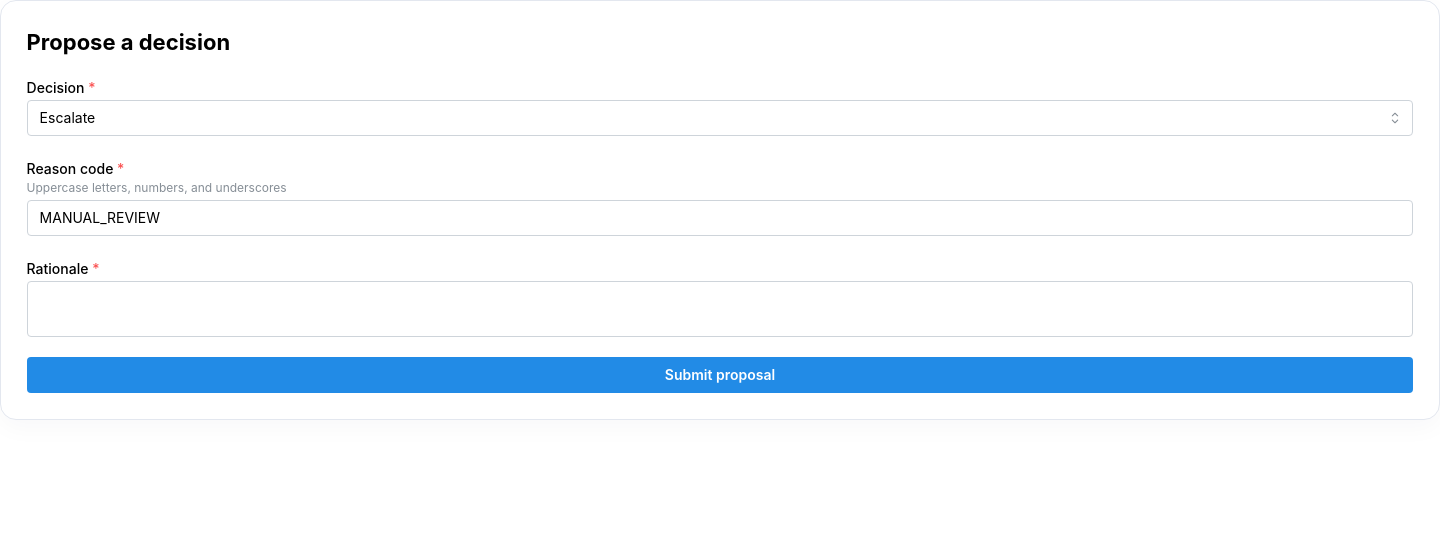
analyst proposal sends a new action without a manager proposal id
Type "Synthetic discrepancy needs escalation" into the text box labelled "Rationale".
click(720, 309); type("Synthetic discrepancy needs escalation")  # box [27, 281, 1413, 337]
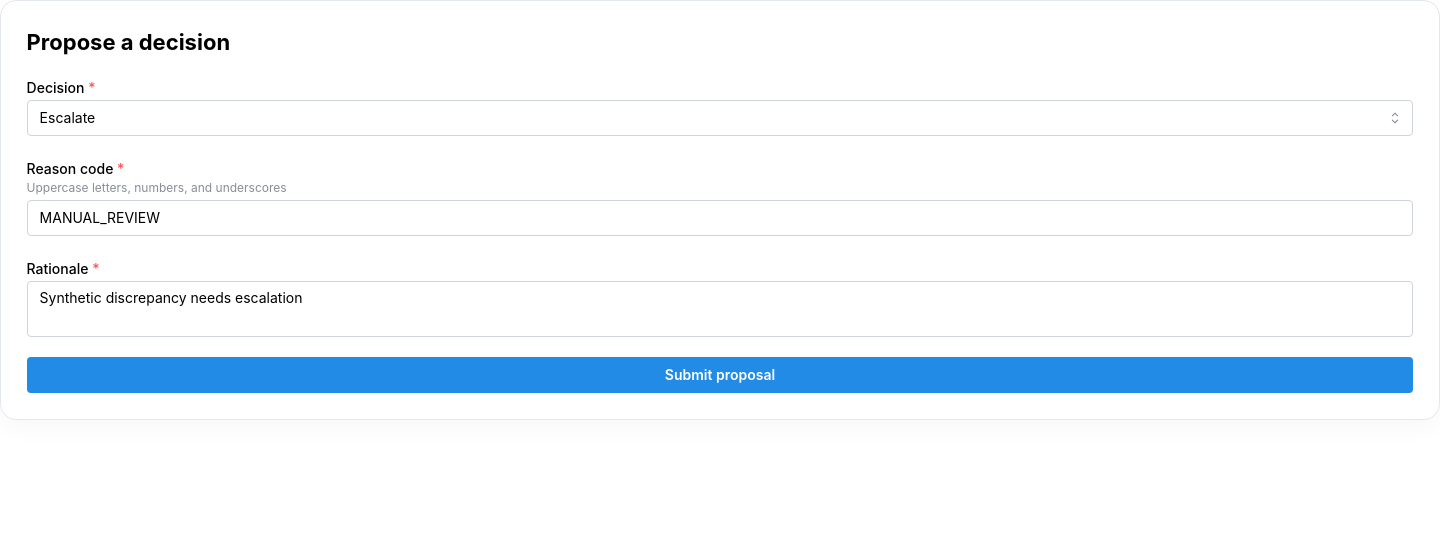
Click the button "Submit proposal".
click(720, 375)  # box [27, 357, 1413, 393]
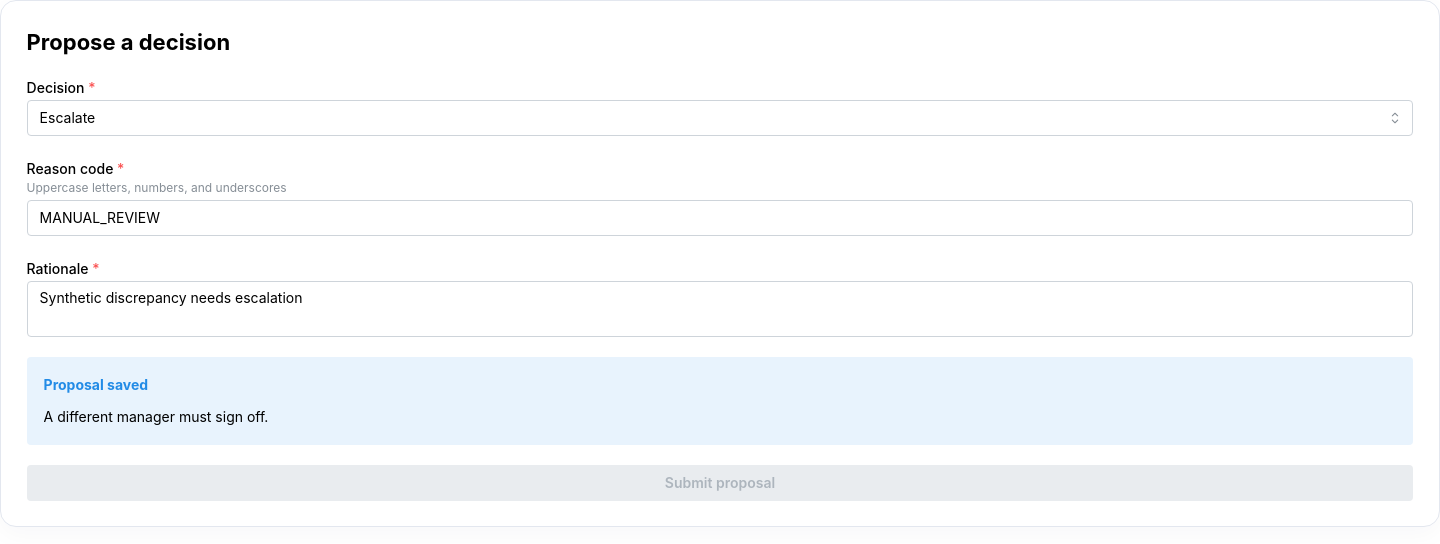
Now the text "A different manager must sign off." is shown, box [44, 408, 268, 425]
